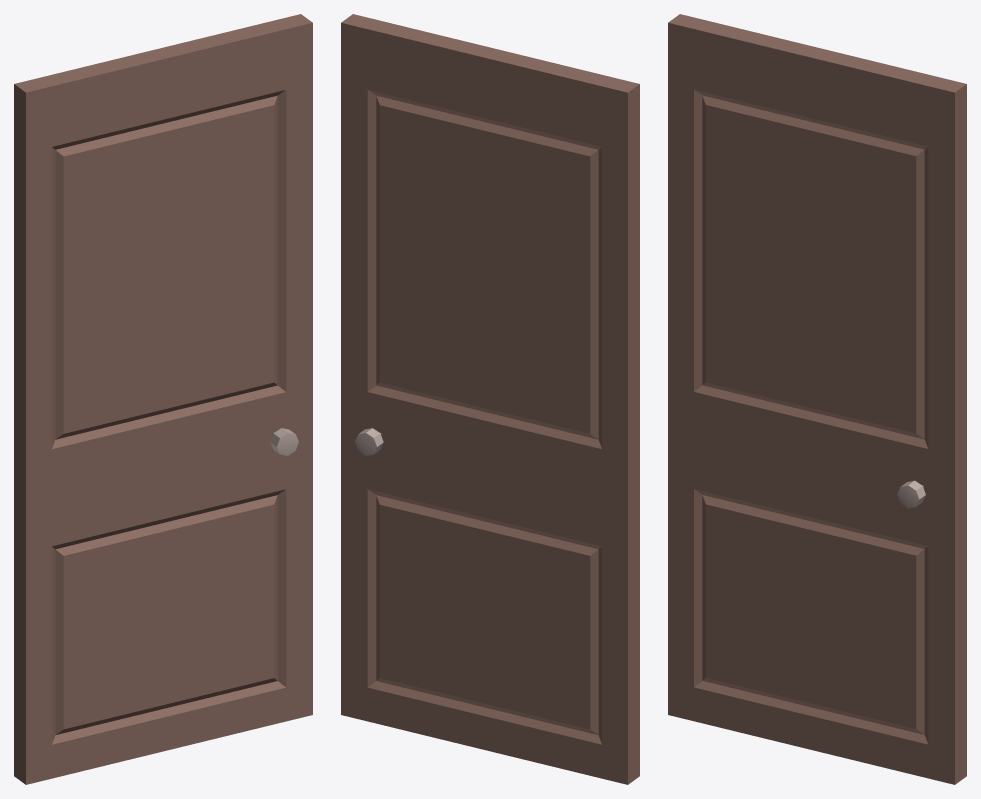
The model's file is door.glb.
The picture shows the model from 3 angles, left to right: view 1: azimuth 30°, elevation 25°; view 2: azimuth 150°, elevation 25°; view 3: azimuth 330°, elevation 25°; orthographic projection.
Parts seen in each view (by area): view 1: door_009; view 2: door_009; view 3: door_009.
Part boxes in pixels (x1=…): door_009: x1=14, y1=14, x2=312, y2=784; door_009: x1=341, y1=14, x2=639, y2=784; door_009: x1=668, y1=14, x2=966, y2=784.
Size of the model in its own units: 1.05 by 2.42 by 0.2273.
1 material, 1 textured.
